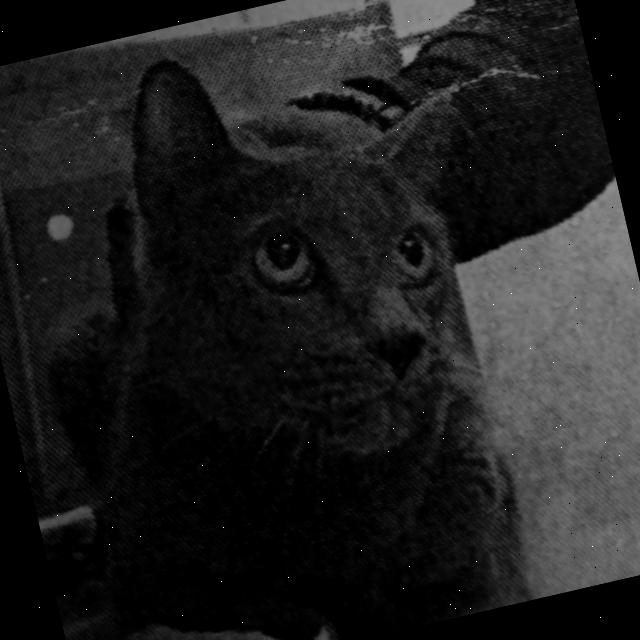russian_blue_cat: (69, 0, 572, 531)
